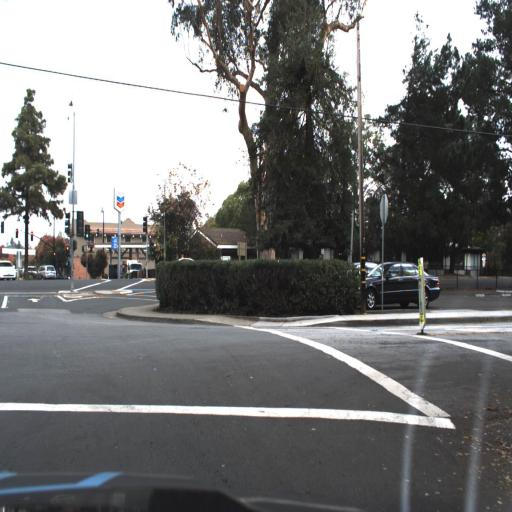car: (358, 257, 443, 311), (344, 257, 388, 290), (0, 258, 17, 284)
